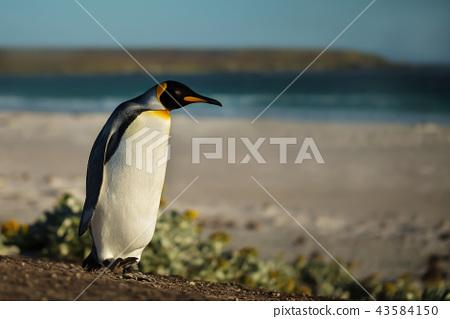king: (62, 75, 232, 269)
